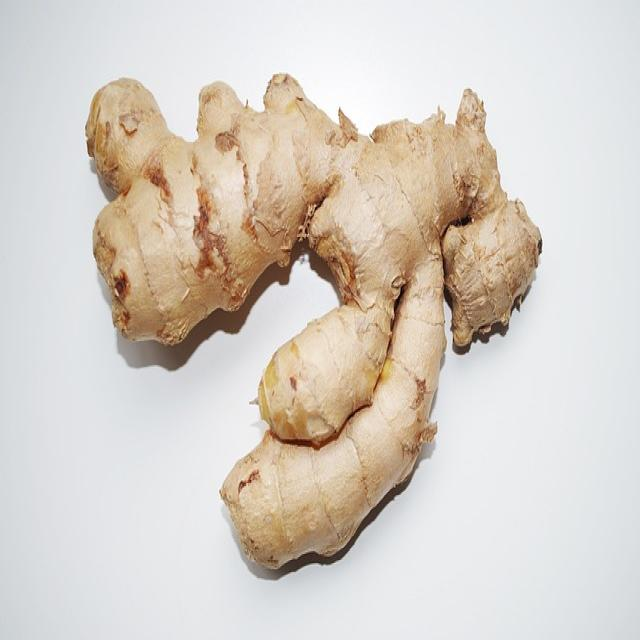ginger-root: (80, 72, 555, 611)
